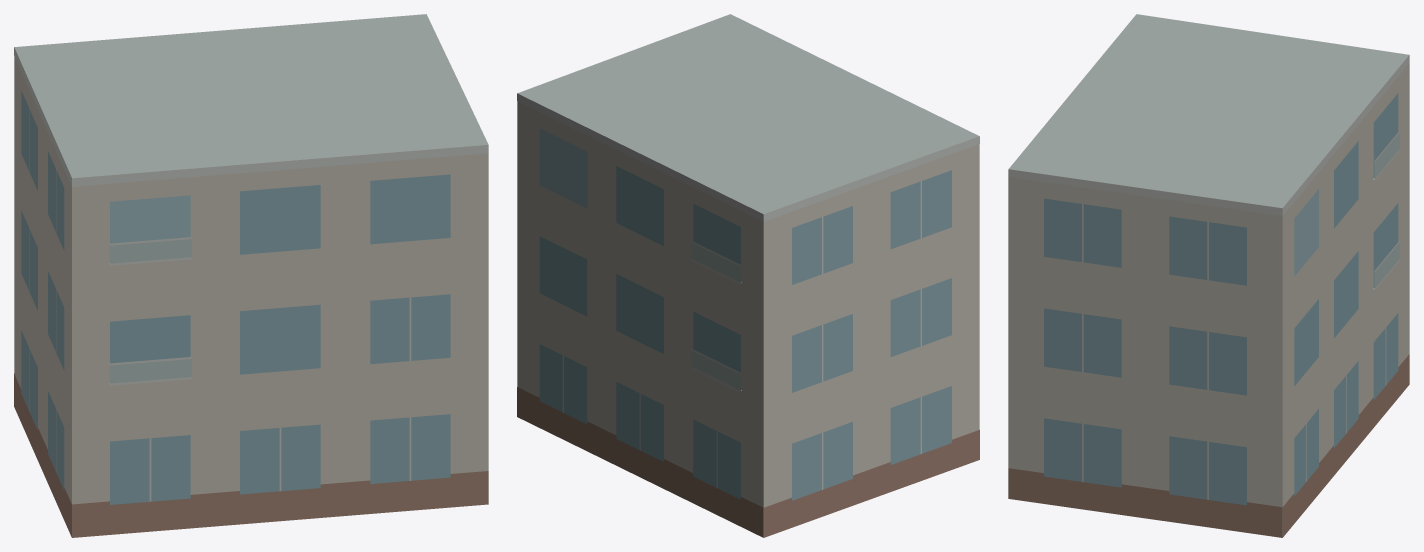
Rendered from survey-upis-32517421.glb.
3 views of the same model, side by side, from view 1: azimuth 30°, elevation 25°; view 2: azimuth 150°, elevation 25°; view 3: azimuth 270°, elevation 25° (orthographic). The views are drawn at different scales.
Parts seen in each view (by area): view 1: survey-upis-32517421.tmp; view 2: survey-upis-32517421.tmp; view 3: survey-upis-32517421.tmp.
Part boxes in pixels (x1,y1,x2,y2): survey-upis-32517421.tmp: (14,14,488,537); survey-upis-32517421.tmp: (517,14,979,537); survey-upis-32517421.tmp: (1008,14,1409,537).
Size of the model in its own units: 13.03 by 10.3 by 11.37.
